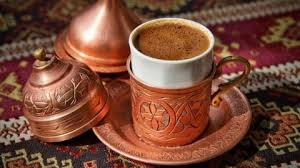kahve: (128, 17, 215, 146)
